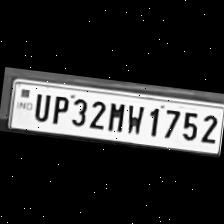1: (142, 104, 162, 138)
2: (196, 110, 220, 144), (85, 96, 107, 130)
3: (66, 94, 90, 128)
5: (176, 107, 200, 142)
7: (158, 104, 180, 140)
M: (103, 98, 126, 133)
P: (47, 92, 70, 125)
U: (29, 88, 52, 122)
W: (123, 100, 146, 136)
